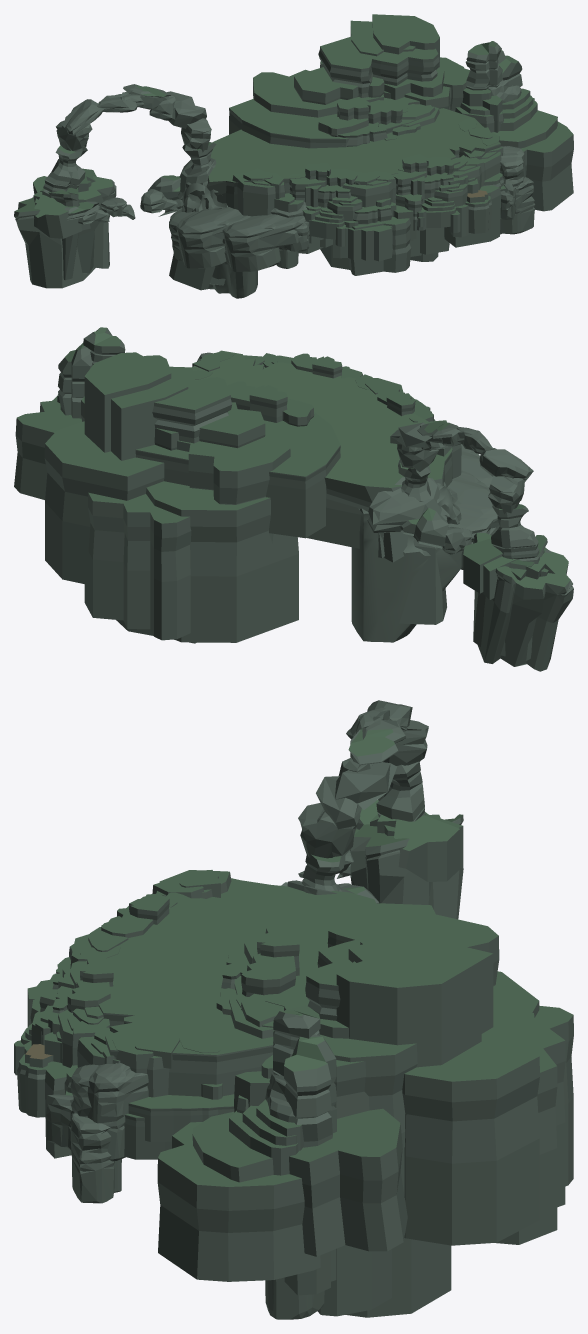
File: GrassyRocks.fbx
3 renders of one model, top to bottom at view 1: azimuth 30°, elevation 25°; view 2: azimuth 150°, elevation 25°; view 3: azimuth 270°, elevation 25°, orthographic. The views are drawn at different scales.
Parts seen in each view (by area): view 1: rock_model.027, rock_model.113, rock_model.131, rock_model.062, rock_model.148, rock_model.130, rock_model.150, rock_model.108, rock_model.096, rock_model.127, rock_model.114, rock_model.064 (+55 smaller); view 2: rock_model.126, rock_model.027, rock_model.125, rock_model.113, rock_model.124, rock_model.131, rock_model.062, rock_model.127, rock_model.096, rock_model.107, rock_model.120, rock_model.130 (+22 smaller); view 3: rock_model.124, rock_model.113, rock_model.027, rock_model.108, rock_model.107, rock_model.130, rock_model.125, rock_model.103, rock_model.115, rock_model.119, rock_model.117, rock_model.095 (+31 smaller).
Part boxes in pixels (x1=…): rock_model.027: x1=206, y1=108, x2=500, y2=209; rock_model.113: x1=318, y1=14, x2=439, y2=269; rock_model.131: x1=14, y1=176, x2=95, y2=288; rock_model.062: x1=229, y1=98, x2=431, y2=148; rock_model.148: x1=222, y1=214, x2=305, y2=271; rock_model.130: x1=40, y1=168, x2=116, y2=280; rock_model.150: x1=169, y1=207, x2=250, y2=268; rock_model.108: x1=521, y1=121, x2=573, y2=211; rock_model.096: x1=253, y1=69, x2=383, y2=117; rock_model.127: x1=181, y1=181, x2=257, y2=298; rock_model.114: x1=294, y1=67, x2=384, y2=247; rock_model.064: x1=348, y1=217, x2=411, y2=275; rock_model.126: x1=146, y1=481, x2=298, y2=642; rock_model.027: x1=192, y1=350, x2=452, y2=548; rock_model.125: x1=84, y1=492, x2=191, y2=640; rock_model.113: x1=84, y1=352, x2=232, y2=643; rock_model.124: x1=44, y1=421, x2=164, y2=584; rock_model.131: x1=477, y1=551, x2=573, y2=671; rock_model.062: x1=135, y1=412, x2=340, y2=538; rock_model.127: x1=351, y1=482, x2=461, y2=642; rock_model.096: x1=177, y1=421, x2=290, y2=543; rock_model.107: x1=14, y1=400, x2=81, y2=499; rock_model.120: x1=378, y1=532, x2=446, y2=624; rock_model.130: x1=463, y1=533, x2=547, y2=660; rock_model.124: x1=402, y1=1007, x2=539, y2=1245; rock_model.113: x1=305, y1=911, x2=493, y2=1317; rock_model.027: x1=98, y1=875, x2=376, y2=1096; rock_model.108: x1=157, y1=1122, x2=320, y2=1281; rock_model.107: x1=192, y1=1108, x2=407, y2=1256; rock_model.130: x1=350, y1=800, x2=463, y2=909; rock_model.125: x1=496, y1=1005, x2=573, y2=1244; rock_model.103: x1=284, y1=1034, x2=336, y2=1295; rock_model.115: x1=273, y1=1030, x2=391, y2=1316; rock_model.119: x1=46, y1=1094, x2=121, y2=1203; rock_model.117: x1=70, y1=1063, x2=148, y2=1161; rock_model.095: x1=320, y1=1034, x2=417, y2=1195.
Size of the model in its own units: 514 by 221 by 309.
